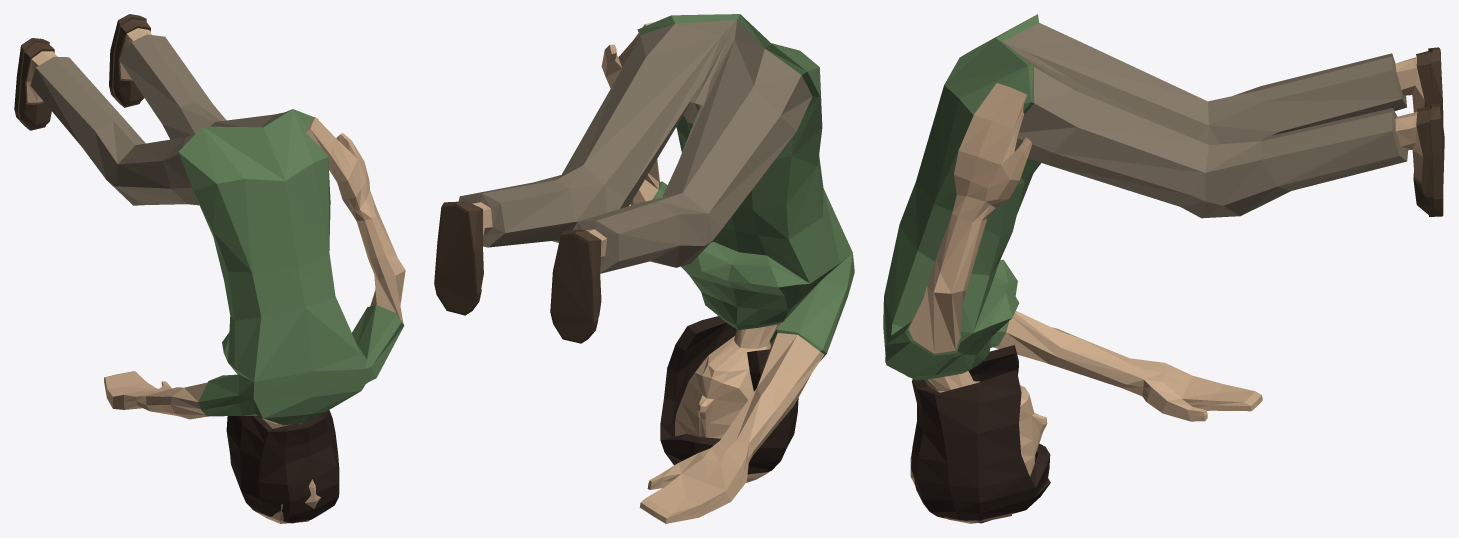
File: woman-picking-up.obj
The picture shows the model from 3 angles, left to right: view 1: azimuth 30°, elevation 25°; view 2: azimuth 150°, elevation 25°; view 3: azimuth 270°, elevation 25°; orthographic projection. The views are drawn at different scales.
Parts seen in each view (by area): view 1: woman-picking-up; view 2: woman-picking-up; view 3: woman-picking-up.
Boxes of the visible parts, left/top/right/bottom form: woman-picking-up: left=14, top=14, right=405, bottom=523; woman-picking-up: left=434, top=14, right=854, bottom=523; woman-picking-up: left=883, top=14, right=1444, bottom=523.
Bounding box in the file's own units: 19.01 × 36.78 × 39.81.
